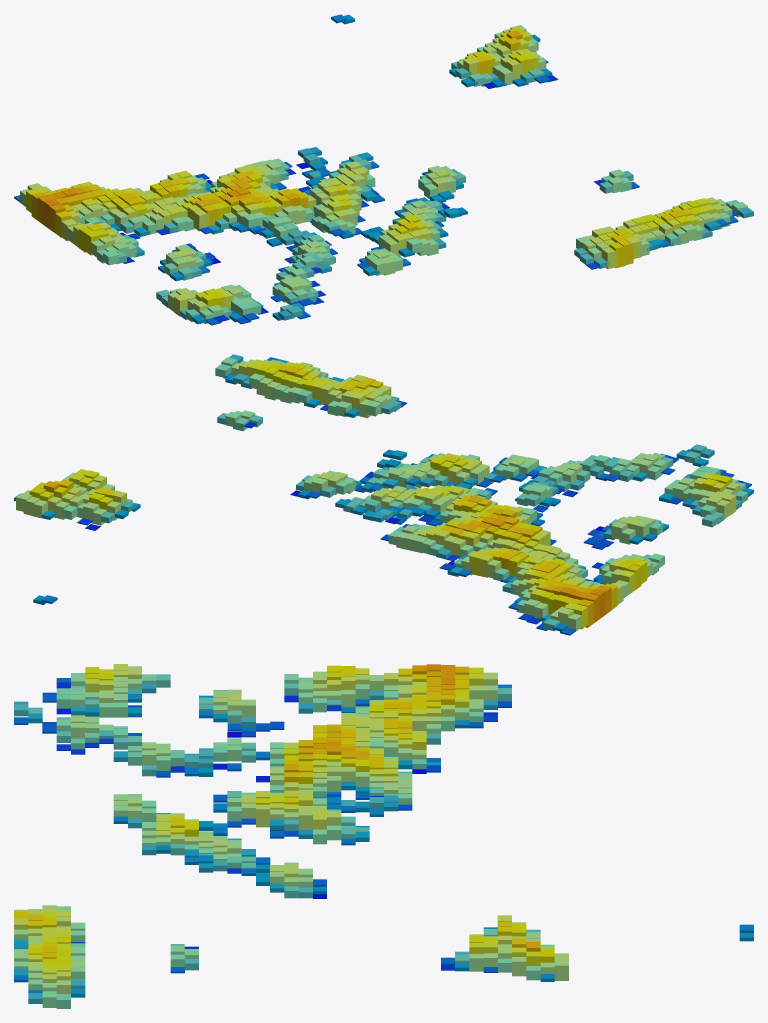
The model's file is population.glb.
3 views of the same model, one above another, from view 1: azimuth 30°, elevation 25°; view 2: azimuth 150°, elevation 25°; view 3: azimuth 270°, elevation 25° (orthographic). The views are drawn at different scales.
Visible parts, largest first — view 1: population; view 2: population; view 3: population.
Boxes of the visible parts, bbox=[...] form: population: bbox=[14, 14, 753, 325]; population: bbox=[14, 354, 753, 635]; population: bbox=[14, 664, 753, 1008].
Size of the model in its own units: 5232 by 445 by 5188.
